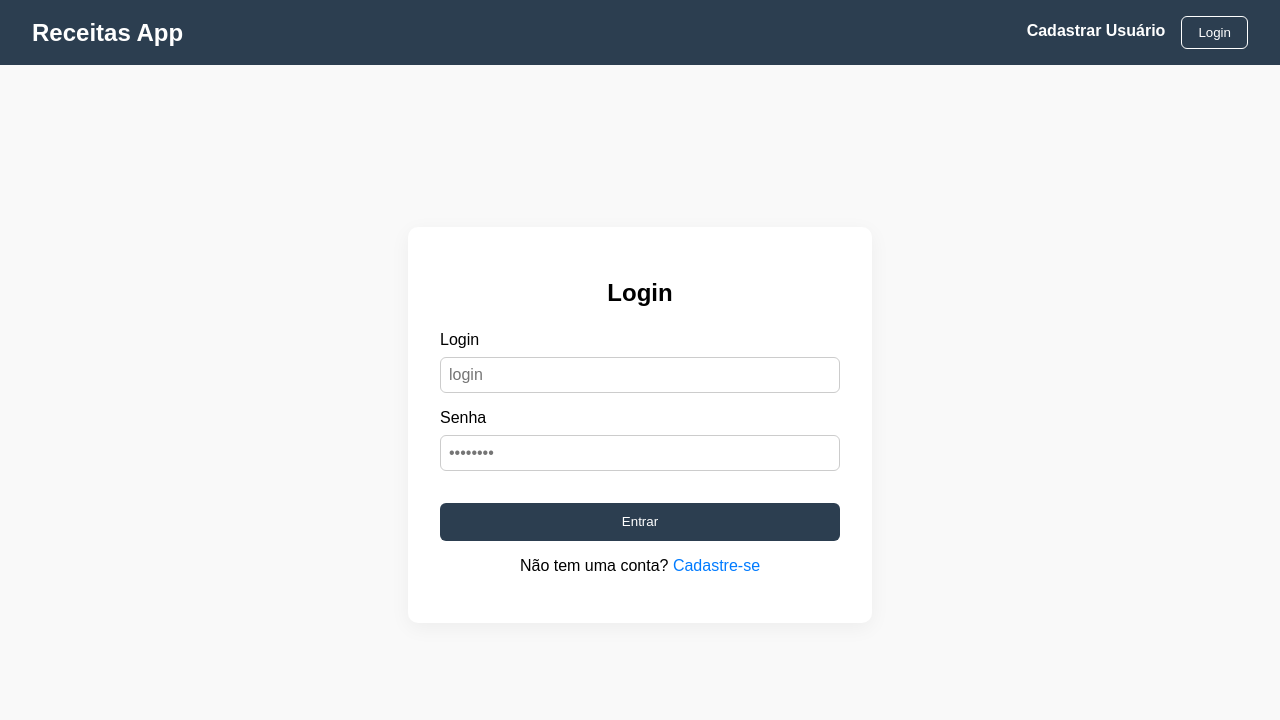
Test: Fluxo de Login › exibe mensagem de erro ao tentar logar com credenciais inválidas
In the field with id "login": (640, 375) [440,357,840,393], type "usuario_invalido"
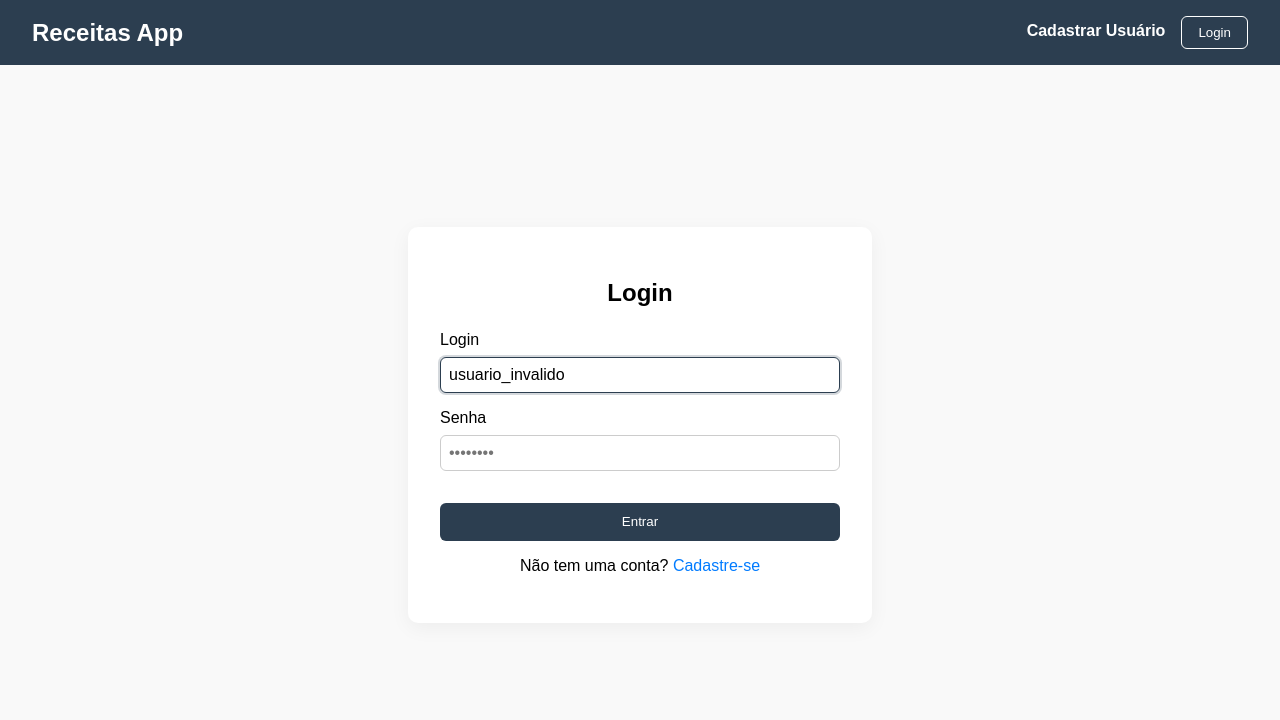
In the password field labelled "Senha": (640, 453) [440,435,840,471], type "senha_invalida"
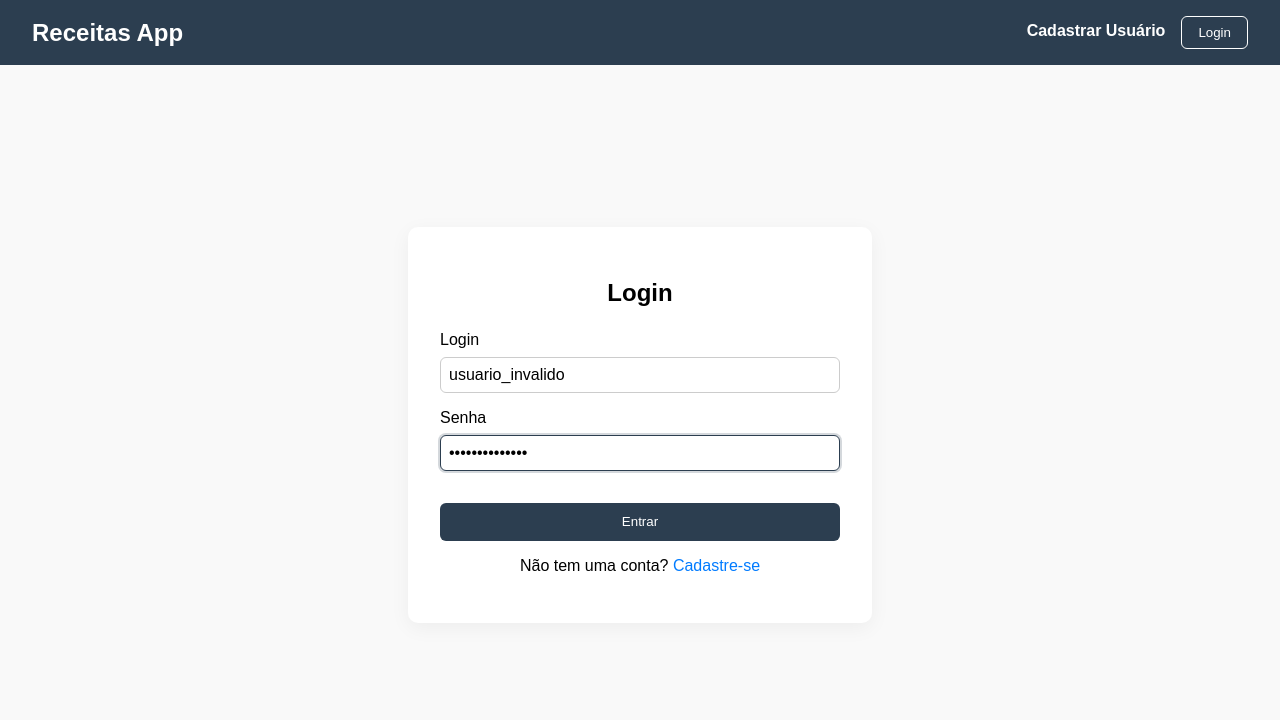
Submit the form, box [440,331,840,540]
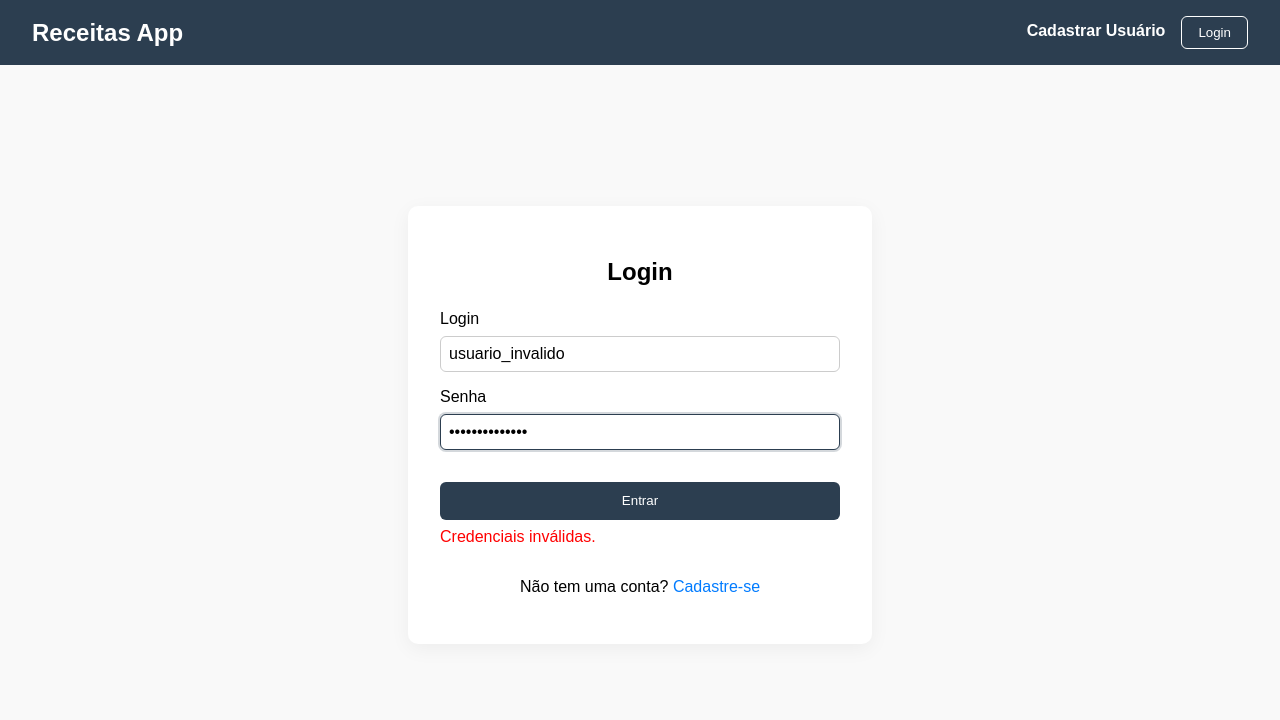
Now the text "Credenciais inválidas." is shown, box [440,528,596,545]
